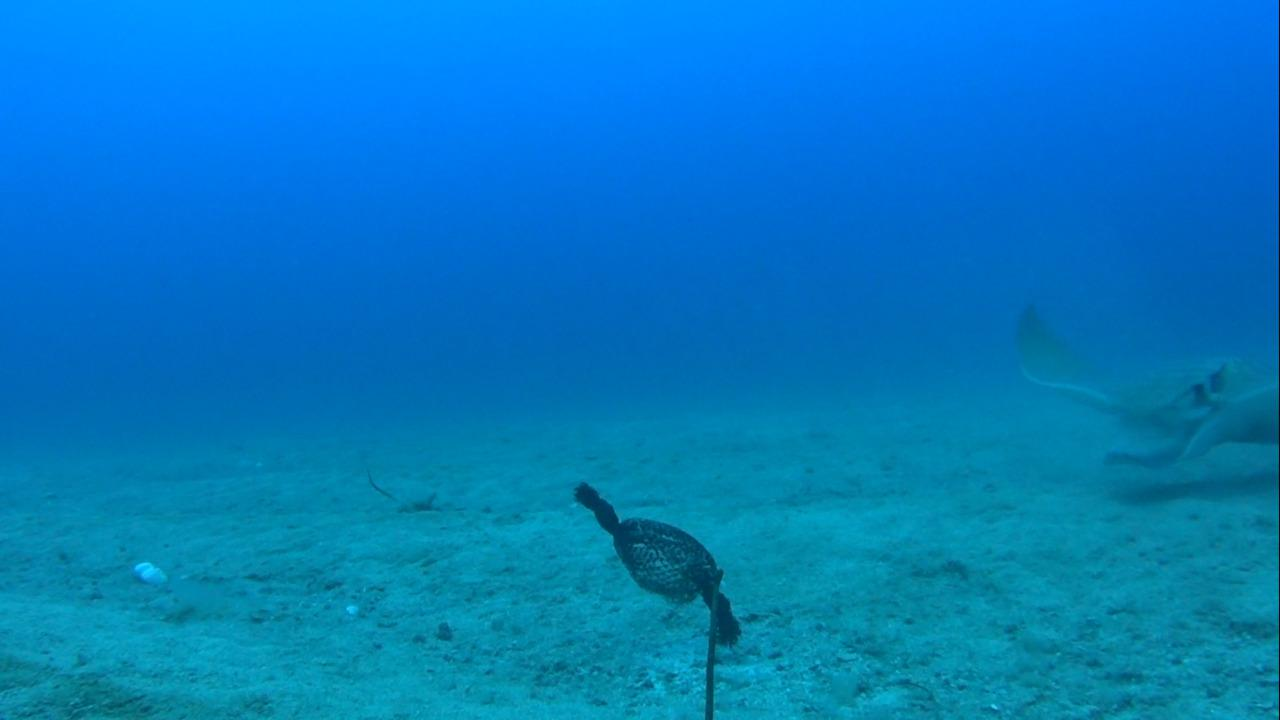myliobatis: (991, 287, 1279, 475)
